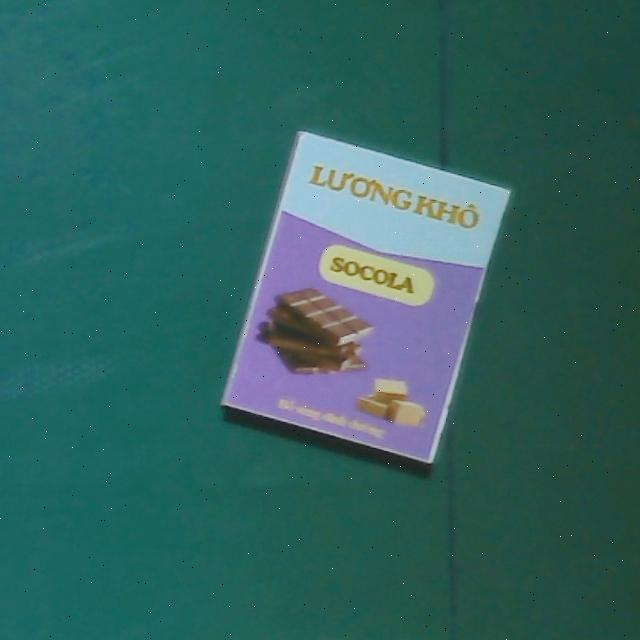socola: (220, 131, 509, 467)
